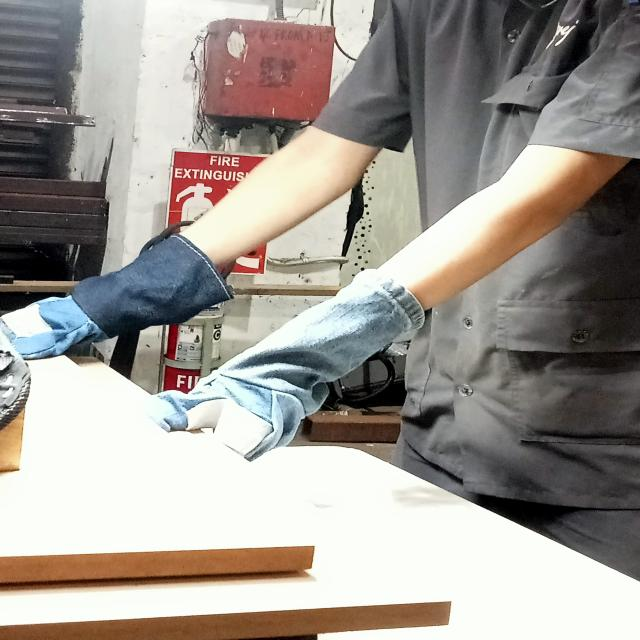Gloves-Detection: (240, 303, 428, 438), (5, 235, 216, 355)
